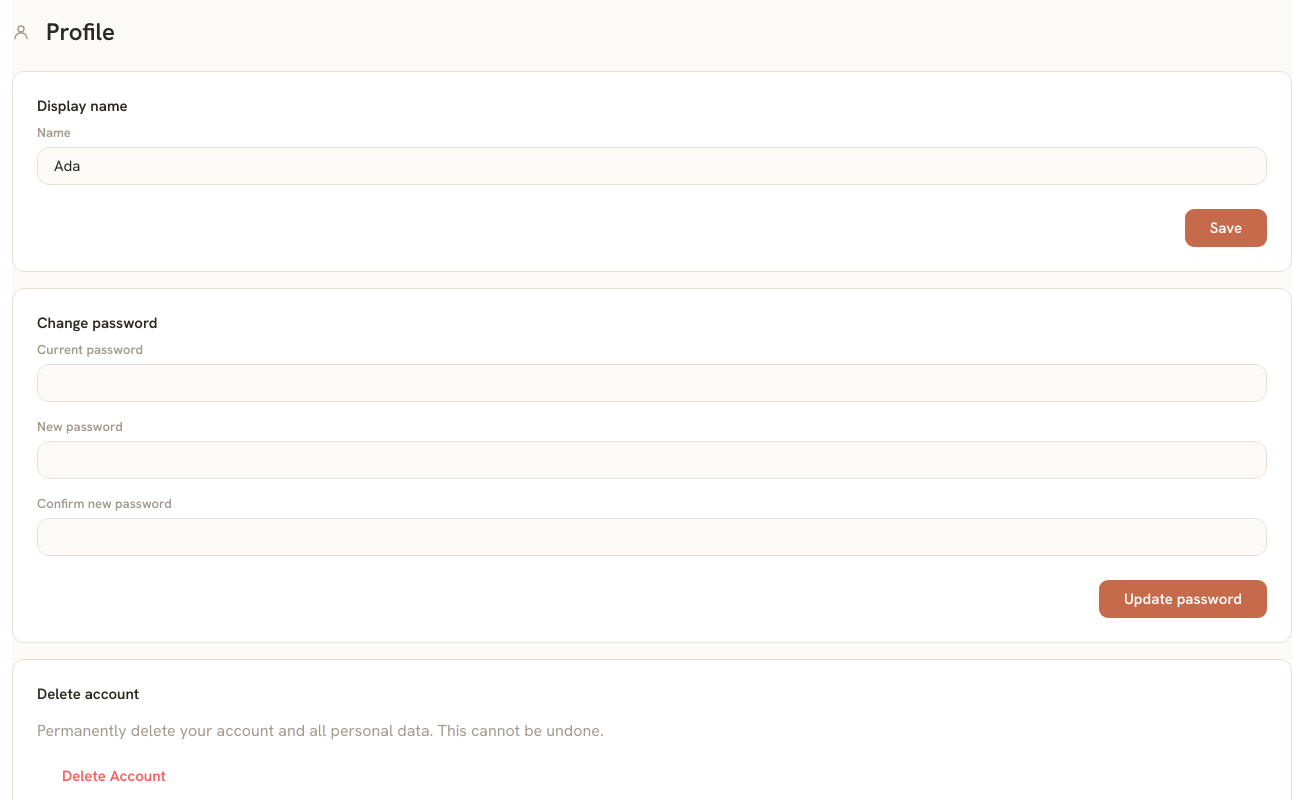
ProfilePage › saves a new display name
Replace the text in the field labelled "Name" with "Ada Lovelace" at (652, 166), box [37,147,1267,185]
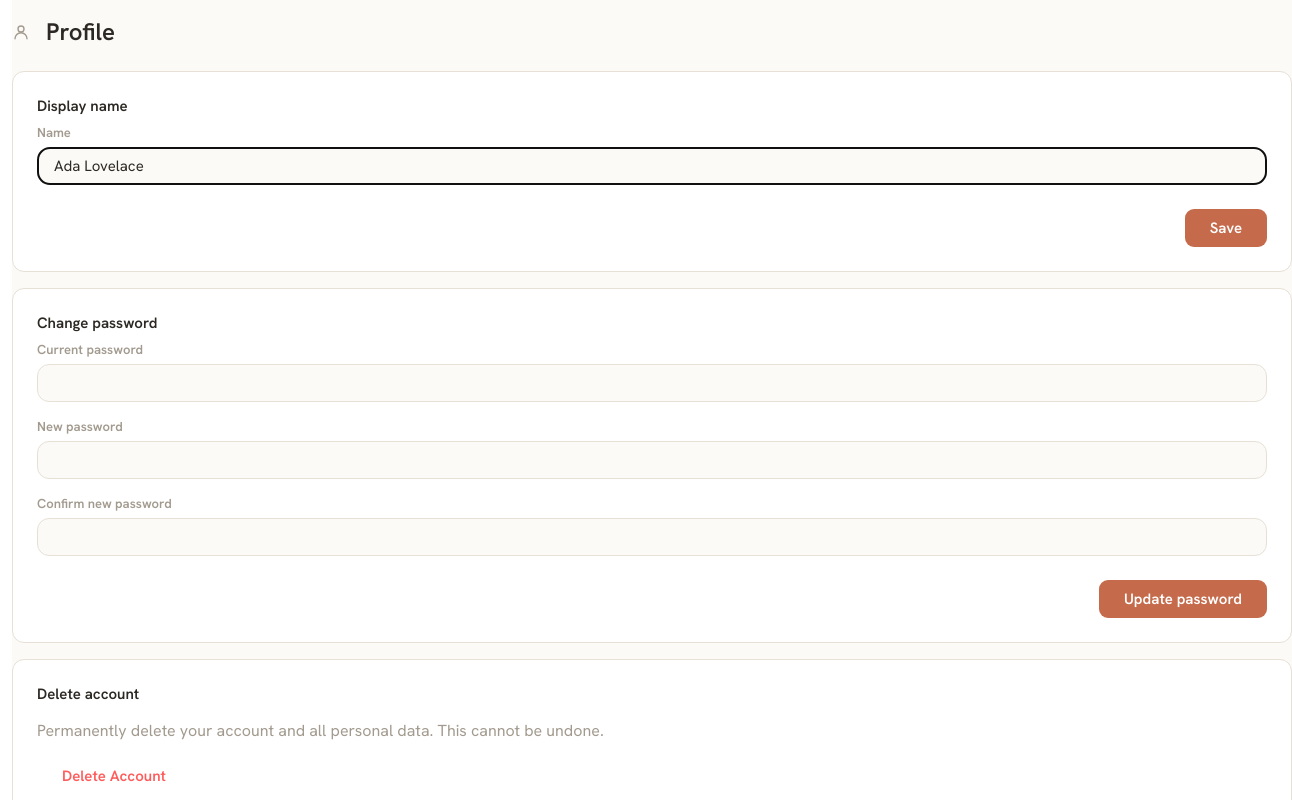
Click the button "Save".
click(1226, 228)  # box [1185,209,1267,247]
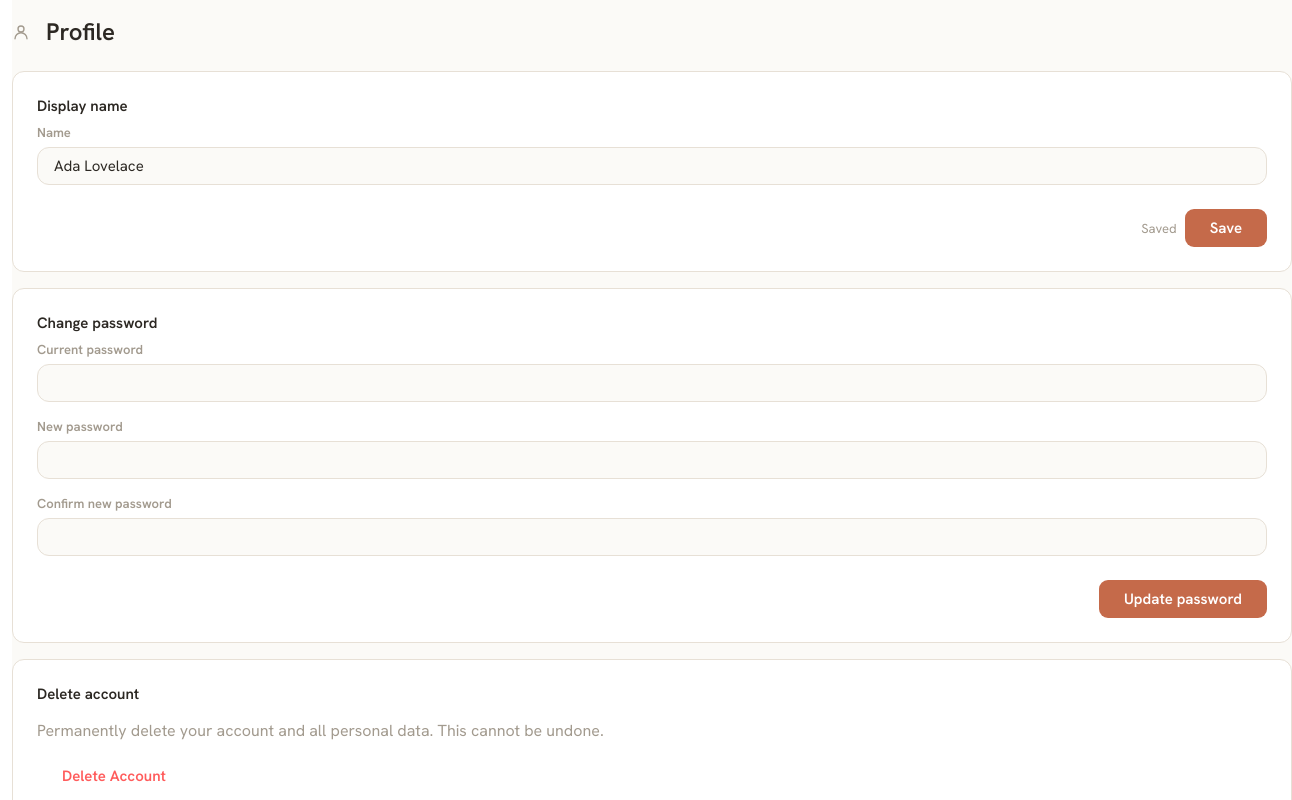
Now the text "Saved" is shown, box [1141,220,1177,236]
